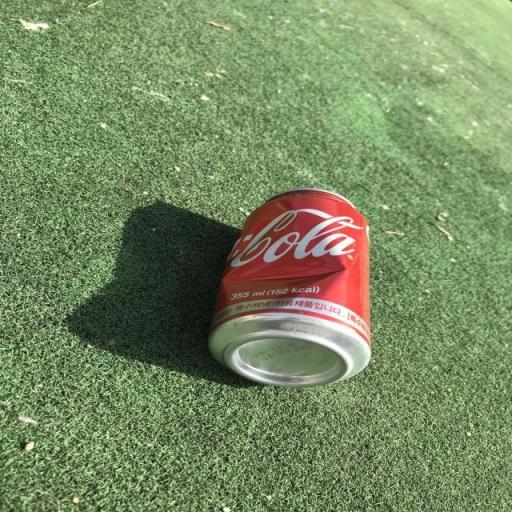metal: (197, 170, 391, 406)
